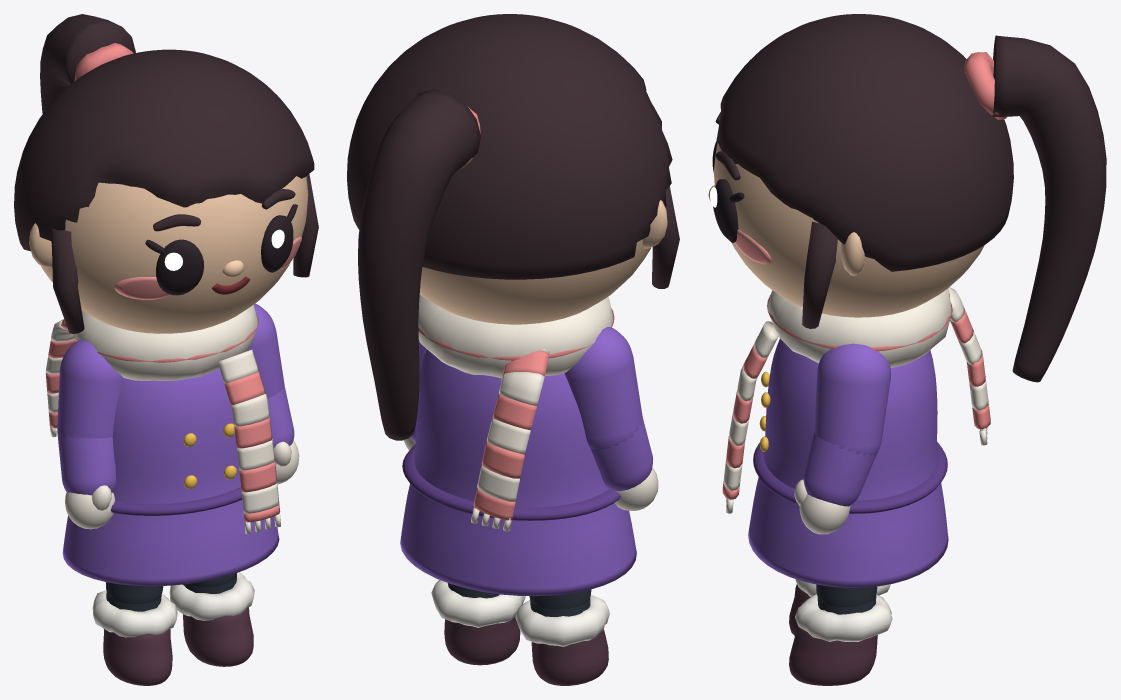
The model's file is npc_teen_girl.glb.
The picture shows the model from 3 angles, left to right: view 1: azimuth 30°, elevation 25°; view 2: azimuth 150°, elevation 25°; view 3: azimuth 270°, elevation 25°; orthographic projection. The views are drawn at different scales.
Parts seen in each view (by area): view 1: head_S_body, spine_S_body, chest_S_body, knee_R_S_body, knee_L_S_body, uarm_R, head_S_eye_dot, farm_R, uarm_L, hand_R_S_body, head_S_cheek_blush, farm_L (+3 smaller); view 2: head_S_body, spine_S_body, chest_S_body, uarm_R, knee_R_S_body, knee_L_S_body, farm_R, hand_R_S_body, thigh_R; view 3: head_S_body, spine_S_body, chest_S_body, knee_L_S_body, uarm_L, farm_L, hand_L_S_body, head_S_eye_dot, thigh_L, knee_R_S_body, head_S_cheek_blush.
Boxes of the visible parts, x1=… form: head_S_body: x1=14, y1=14, x2=318, y2=333; spine_S_body: x1=62, y1=369, x2=279, y2=586; chest_S_body: x1=45, y1=305, x2=280, y2=534; knee_R_S_body: x1=92, y1=590, x2=177, y2=685; knee_L_S_body: x1=169, y1=572, x2=254, y2=666; uarm_R: x1=57, y1=340, x2=123, y2=438; head_S_eye_dot: x1=145, y1=204, x2=297, y2=295; farm_R: x1=57, y1=429, x2=116, y2=495; uarm_L: x1=247, y1=303, x2=284, y2=398; hand_R_S_body: x1=65, y1=485, x2=115, y2=529; head_S_cheek_blush: x1=114, y1=236, x2=301, y2=299; farm_L: x1=267, y1=386, x2=294, y2=448; head_S_body: x1=347, y1=14, x2=679, y2=440; spine_S_body: x1=400, y1=349, x2=636, y2=596; chest_S_body: x1=418, y1=295, x2=614, y2=531; uarm_R: x1=564, y1=327, x2=642, y2=449; knee_R_S_body: x1=515, y1=594, x2=609, y2=685; knee_L_S_body: x1=431, y1=580, x2=525, y2=665; farm_R: x1=586, y1=417, x2=653, y2=490; hand_R_S_body: x1=614, y1=467, x2=658, y2=510; thigh_R: x1=529, y1=589, x2=591, y2=609; head_S_body: x1=708, y1=14, x2=1106, y2=382; spine_S_body: x1=748, y1=338, x2=948, y2=587; chest_S_body: x1=722, y1=287, x2=990, y2=513; knee_L_S_body: x1=789, y1=594, x2=892, y2=685; uarm_L: x1=814, y1=343, x2=890, y2=456; farm_L: x1=803, y1=432, x2=881, y2=506; hand_L_S_body: x1=794, y1=479, x2=850, y2=534; head_S_eye_dot: x1=710, y1=140, x2=744, y2=242; thigh_L: x1=816, y1=584, x2=877, y2=606; knee_R_S_body: x1=789, y1=579, x2=890, y2=635; head_S_cheek_blush: x1=735, y1=229, x2=771, y2=264.
Size of what is drawn, in the model's own units: 0.6274 by 1.28 by 0.7352.
